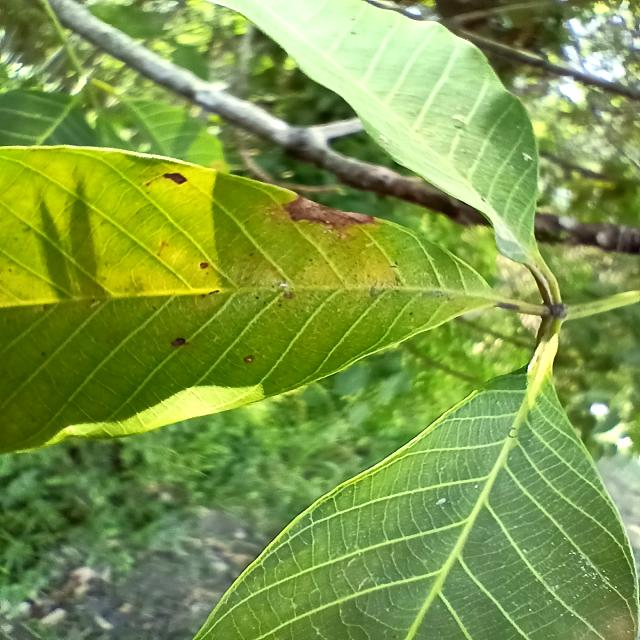Colletotrichum: (244, 354, 255, 364), (200, 262, 208, 269)
Leaf-Blight: (285, 194, 374, 230)
